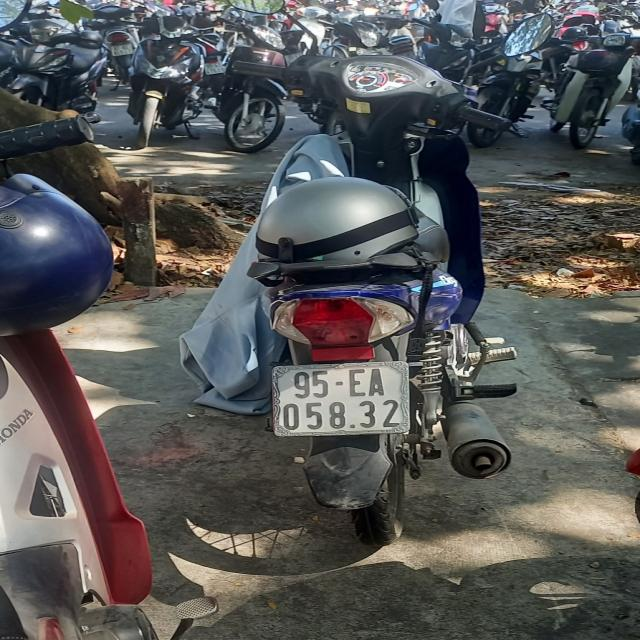0: (284, 403, 300, 431)
2: (382, 398, 400, 429)
3: (359, 400, 376, 429)
5: (310, 367, 330, 398), (306, 401, 325, 431)
8: (327, 401, 347, 431)
9: (295, 370, 311, 401)
A: (368, 368, 389, 399)
E: (348, 369, 367, 399)
